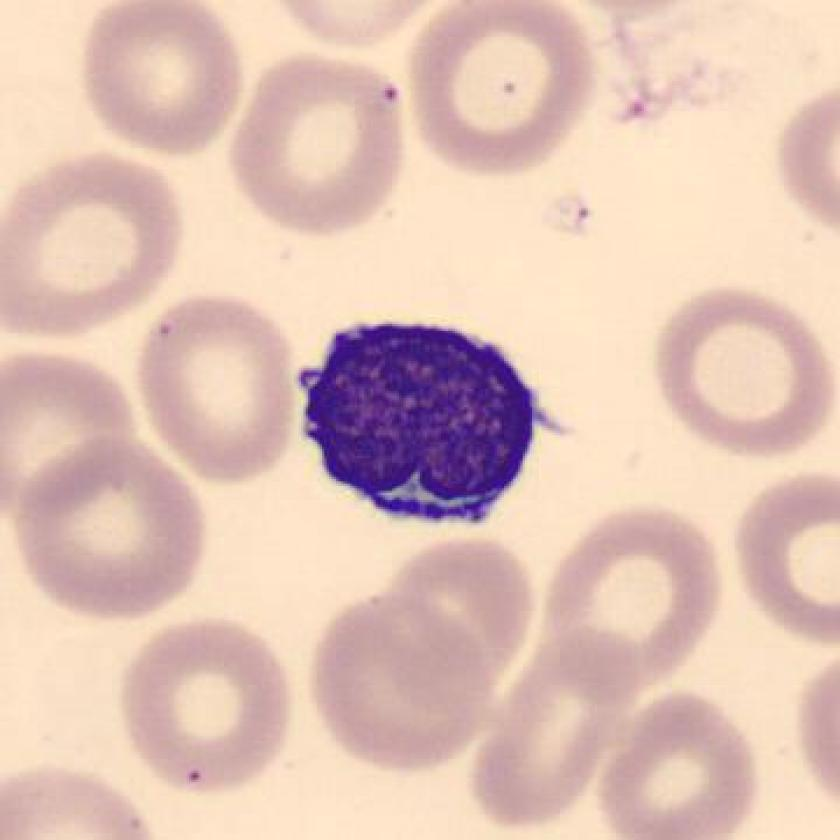lymphocyte: (286, 299, 552, 545)
